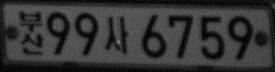5: (199, 15, 226, 60)
6: (141, 13, 167, 58)
7: (168, 14, 194, 60)
9: (227, 15, 253, 60), (45, 10, 70, 54), (73, 12, 98, 55)
부산_V: (19, 9, 44, 56)
사: (104, 16, 128, 53)
